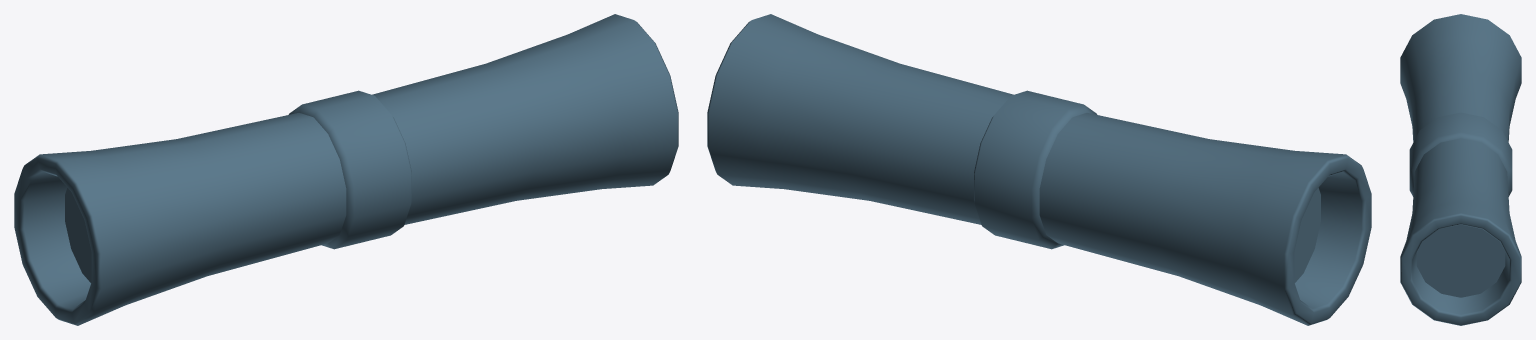
The model's file is Parchemin.fbx.
The picture shows the model from 3 angles, left to right: view 1: azimuth 30°, elevation 25°; view 2: azimuth 150°, elevation 25°; view 3: azimuth 270°, elevation 25°; orthographic projection. The views are drawn at different scales.
Visible parts, largest first — view 1: Parchemin; view 2: Parchemin; view 3: Parchemin.
Part boxes in pixels (left/top/right/bottom): Parchemin: left=14, top=14, right=678, bottom=325; Parchemin: left=707, top=14, right=1371, bottom=325; Parchemin: left=1400, top=14, right=1521, bottom=325.
Size of the model in its own units: 0.2893 by 0.0758 by 0.0739.
